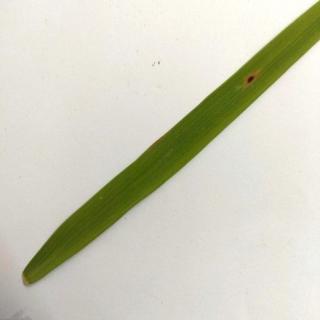bercak-Cokelat: (241, 71, 260, 89)
